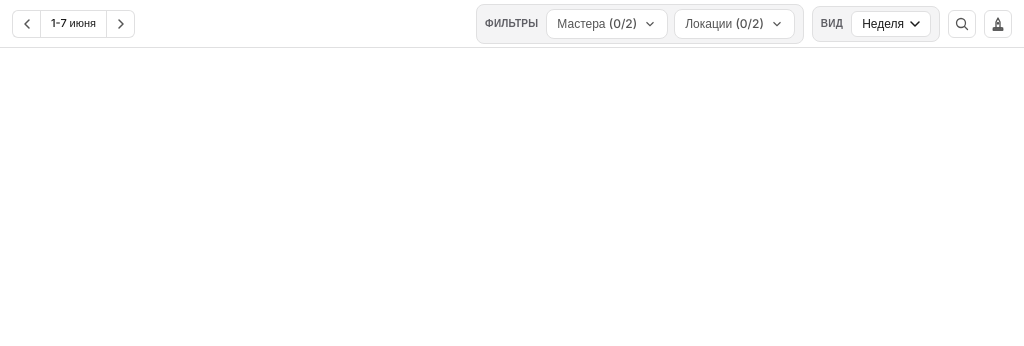
Test: Topbar — Cell Height Zoom Control › opens zoom popup when zoom button is clicked
Click the button with test id "zoom-button".
click(962, 24)  # box [948,10,976,38]
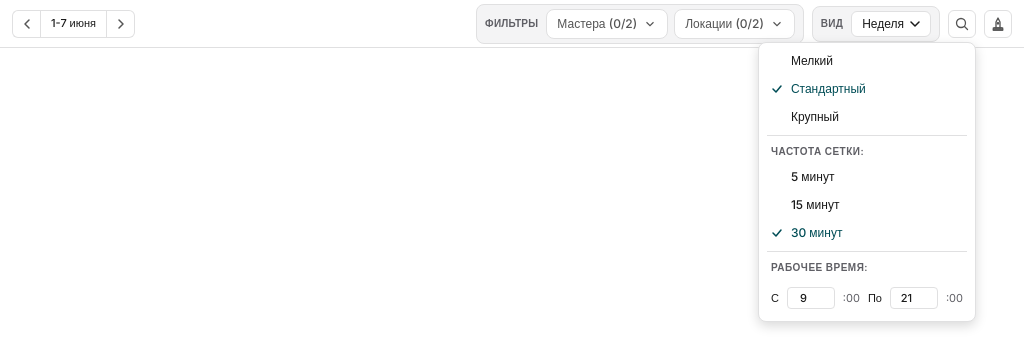
Expected: the menu with test id "zoom-popup" is shown, [758,42,976,322]
